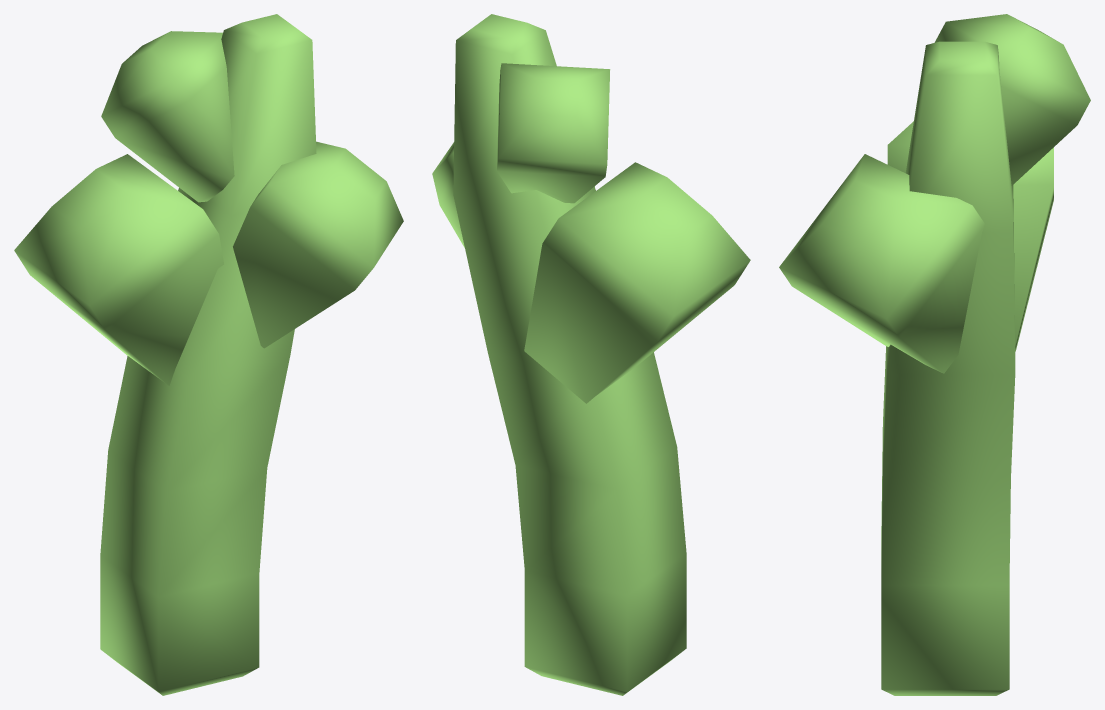
The model's file is potato stage 2.glb.
The picture shows the model from 3 angles, left to right: view 1: azimuth 30°, elevation 25°; view 2: azimuth 150°, elevation 25°; view 3: azimuth 270°, elevation 25°; orthographic projection. The views are drawn at different scales.
Parts seen in each view (by area): view 1: potato stage 2; view 2: potato stage 2; view 3: potato stage 2.
Part boxes in pixels (x1=…): potato stage 2: x1=14, y1=14, x2=403, y2=695; potato stage 2: x1=432, y1=14, x2=750, y2=695; potato stage 2: x1=779, y1=14, x2=1090, y2=695.
Size of the model in its own units: 3.43 by 6.42 by 2.68.
1 material, 1 textured.
